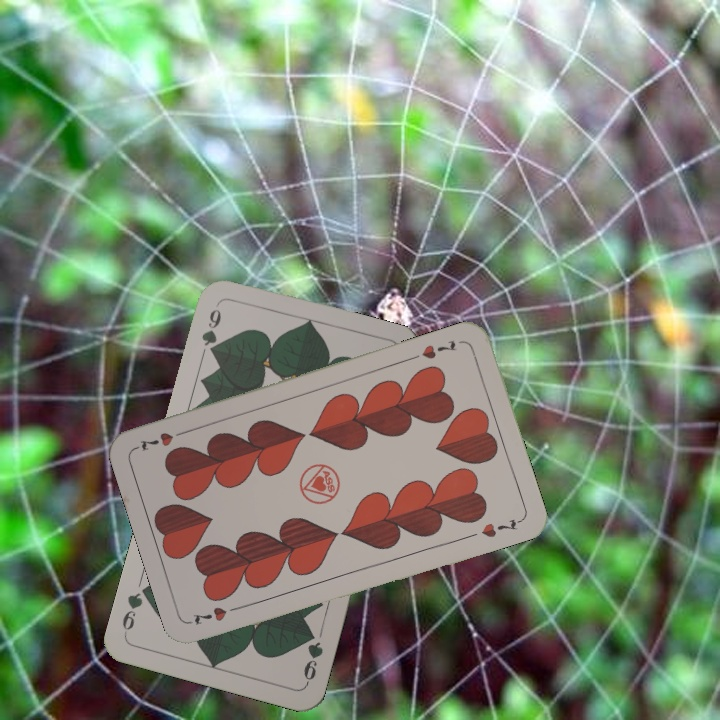G9: (299, 626, 326, 687), (197, 300, 224, 359)
H7: (189, 601, 245, 628), (417, 336, 460, 362)
